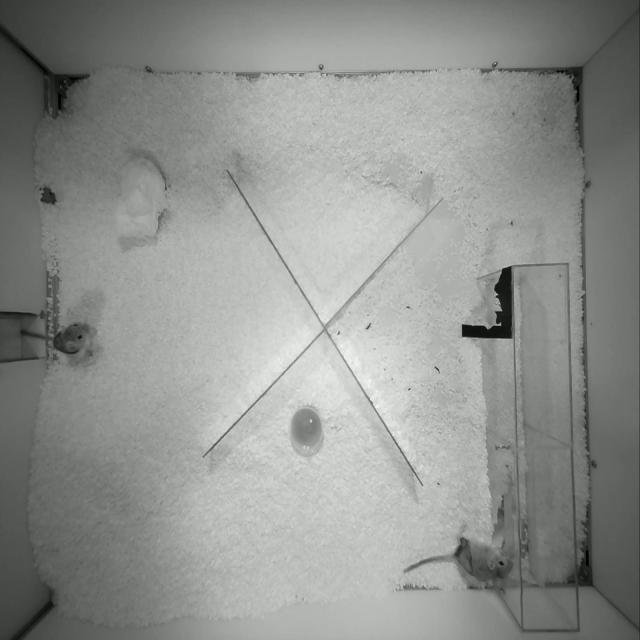adult_back: (404, 534, 513, 589)
